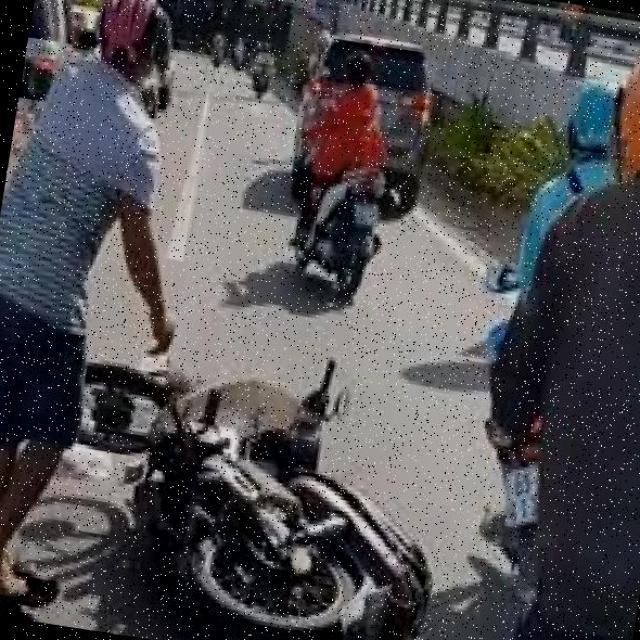accident: (20, 311, 483, 640)
